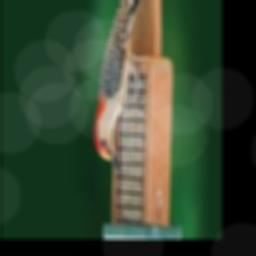Woodpecker: (94, 0, 151, 176)
